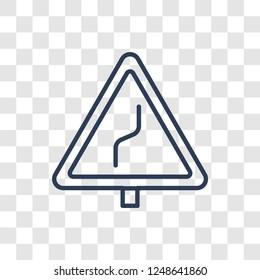Right Reverse Bend: (50, 35, 216, 212)
